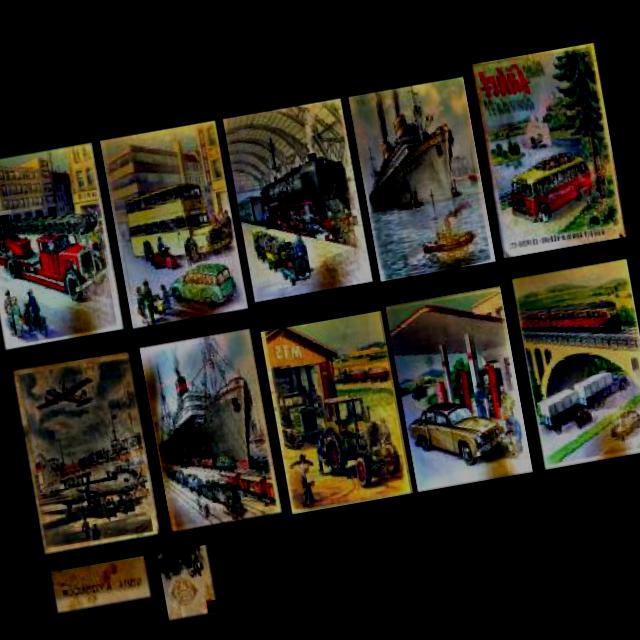Person: (292, 449, 316, 506), (288, 230, 311, 278), (140, 278, 160, 325), (22, 288, 43, 332), (0, 288, 18, 332), (10, 296, 26, 337), (134, 286, 150, 326), (158, 282, 174, 320), (5, 301, 18, 334)
